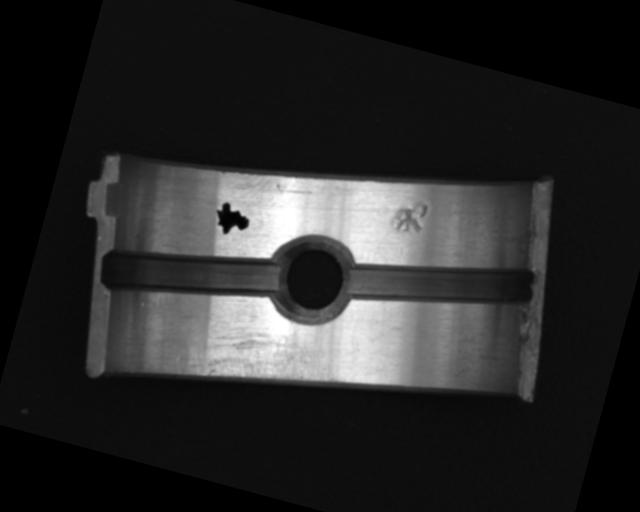blot: (208, 199, 254, 240)
bruise: (387, 194, 431, 238)
gap: (342, 224, 538, 344), (95, 220, 286, 331)
hole: (260, 231, 362, 333)
scratch: (170, 303, 346, 416)
